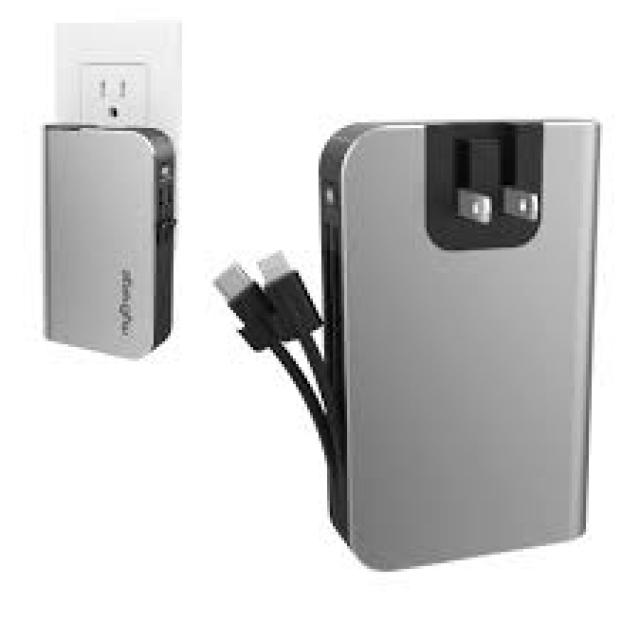portable-charger: (318, 114, 596, 574), (40, 122, 170, 363)
